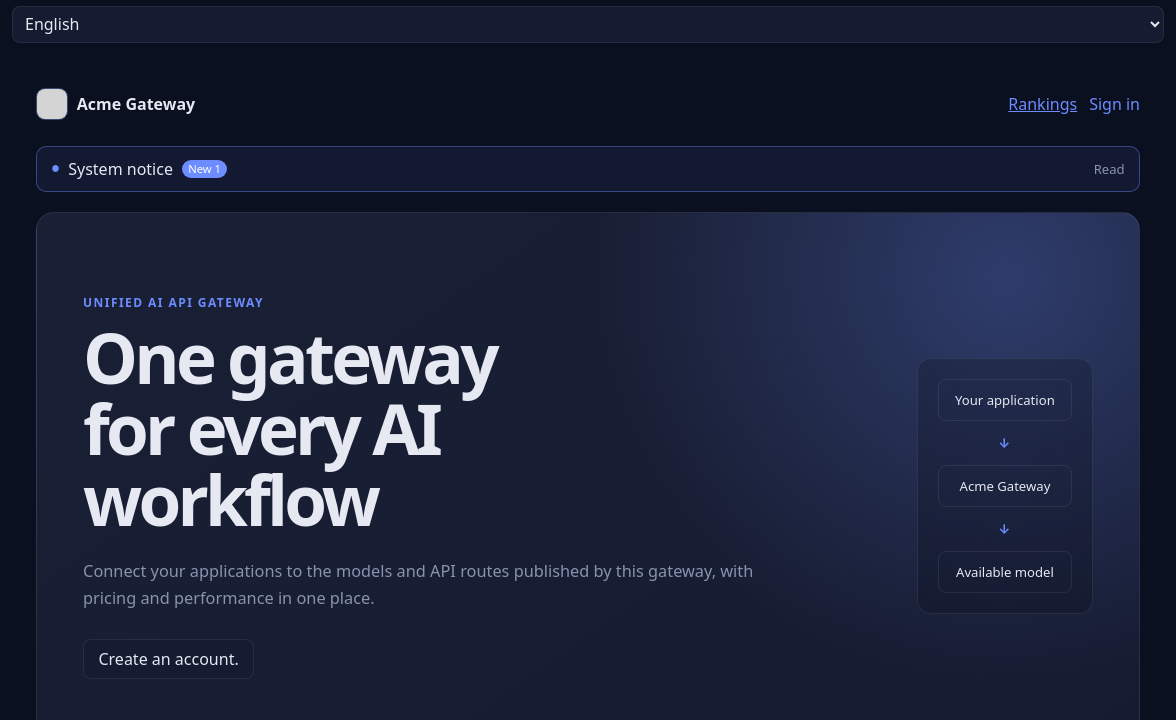
shared layout integration › renders status branding and only enabled public navigation on the home route
The image size is (1176, 720).
Expected: the link with aria-label "Back to home" shows "Acme Gateway", [36,88,195,120]
Expected: the picture named "Gateway request flow" shows "Acme Gateway", [960,477,1050,495]
Click the button "● System notice New 1 Read". click: coordinates (121, 169)
box: [37,147,1139,191]
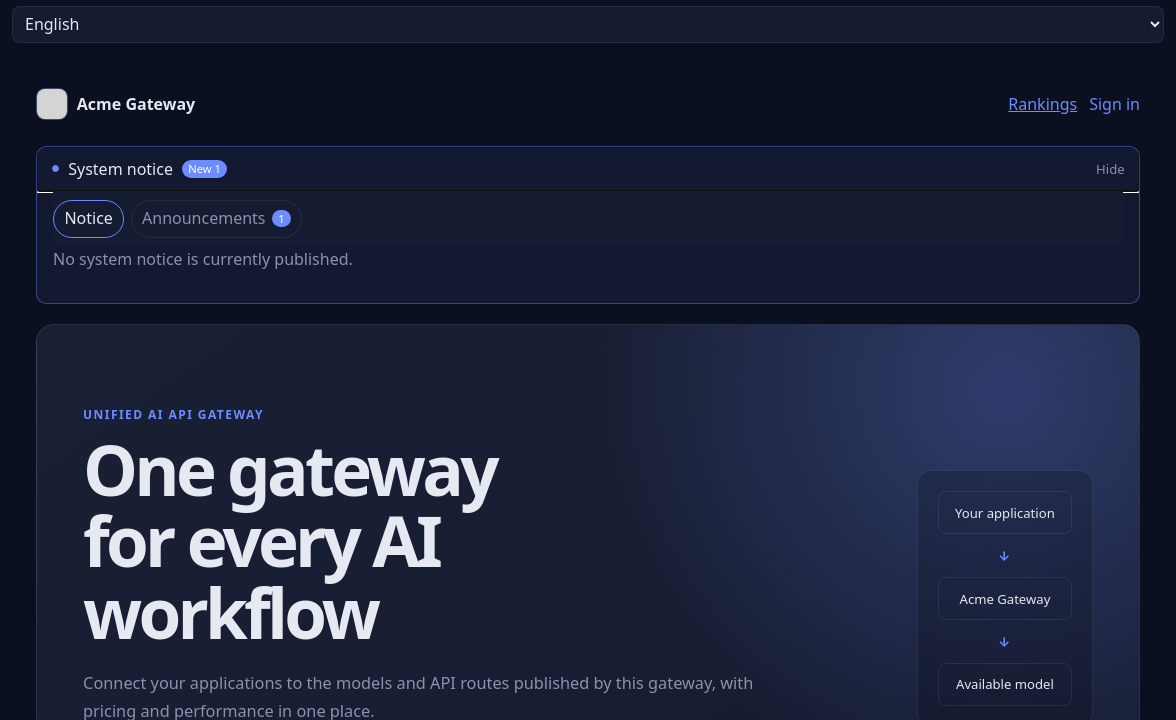
Click the tab "Announcements 1". click: coordinates (216, 219)
box: [131,200,302,238]
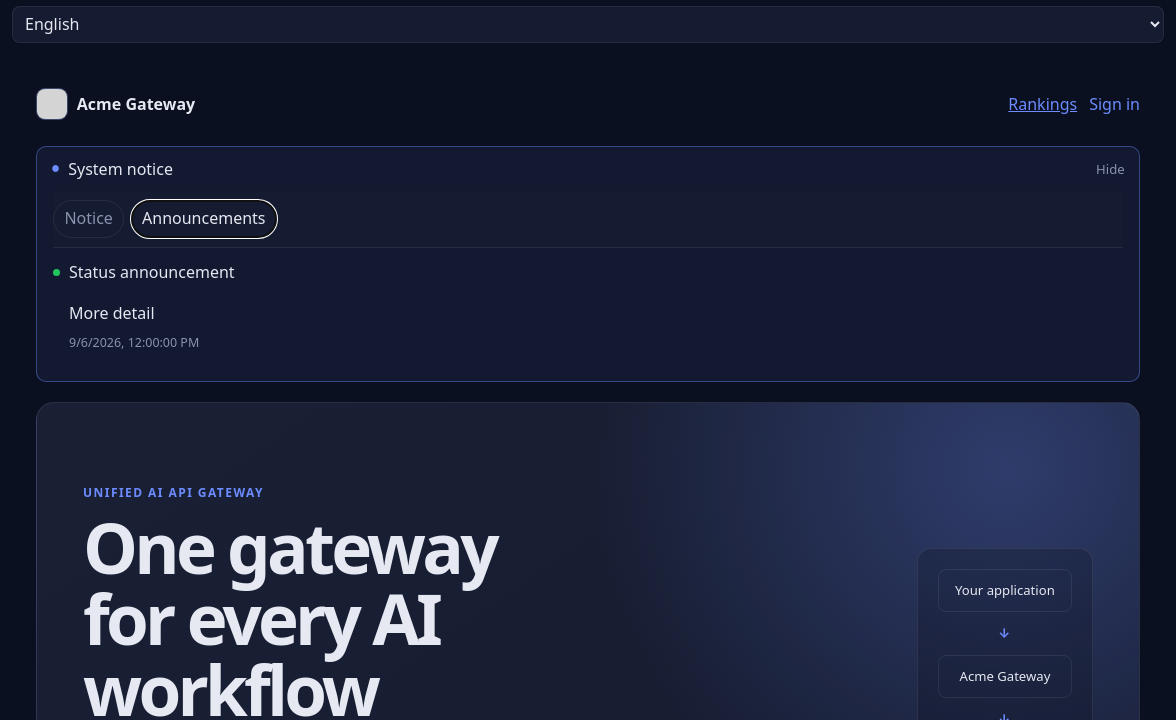
Result: the text "Status announcement" is shown at [69,261,235,283]
Result: the text "More detail" is shown at [69,302,154,324]
